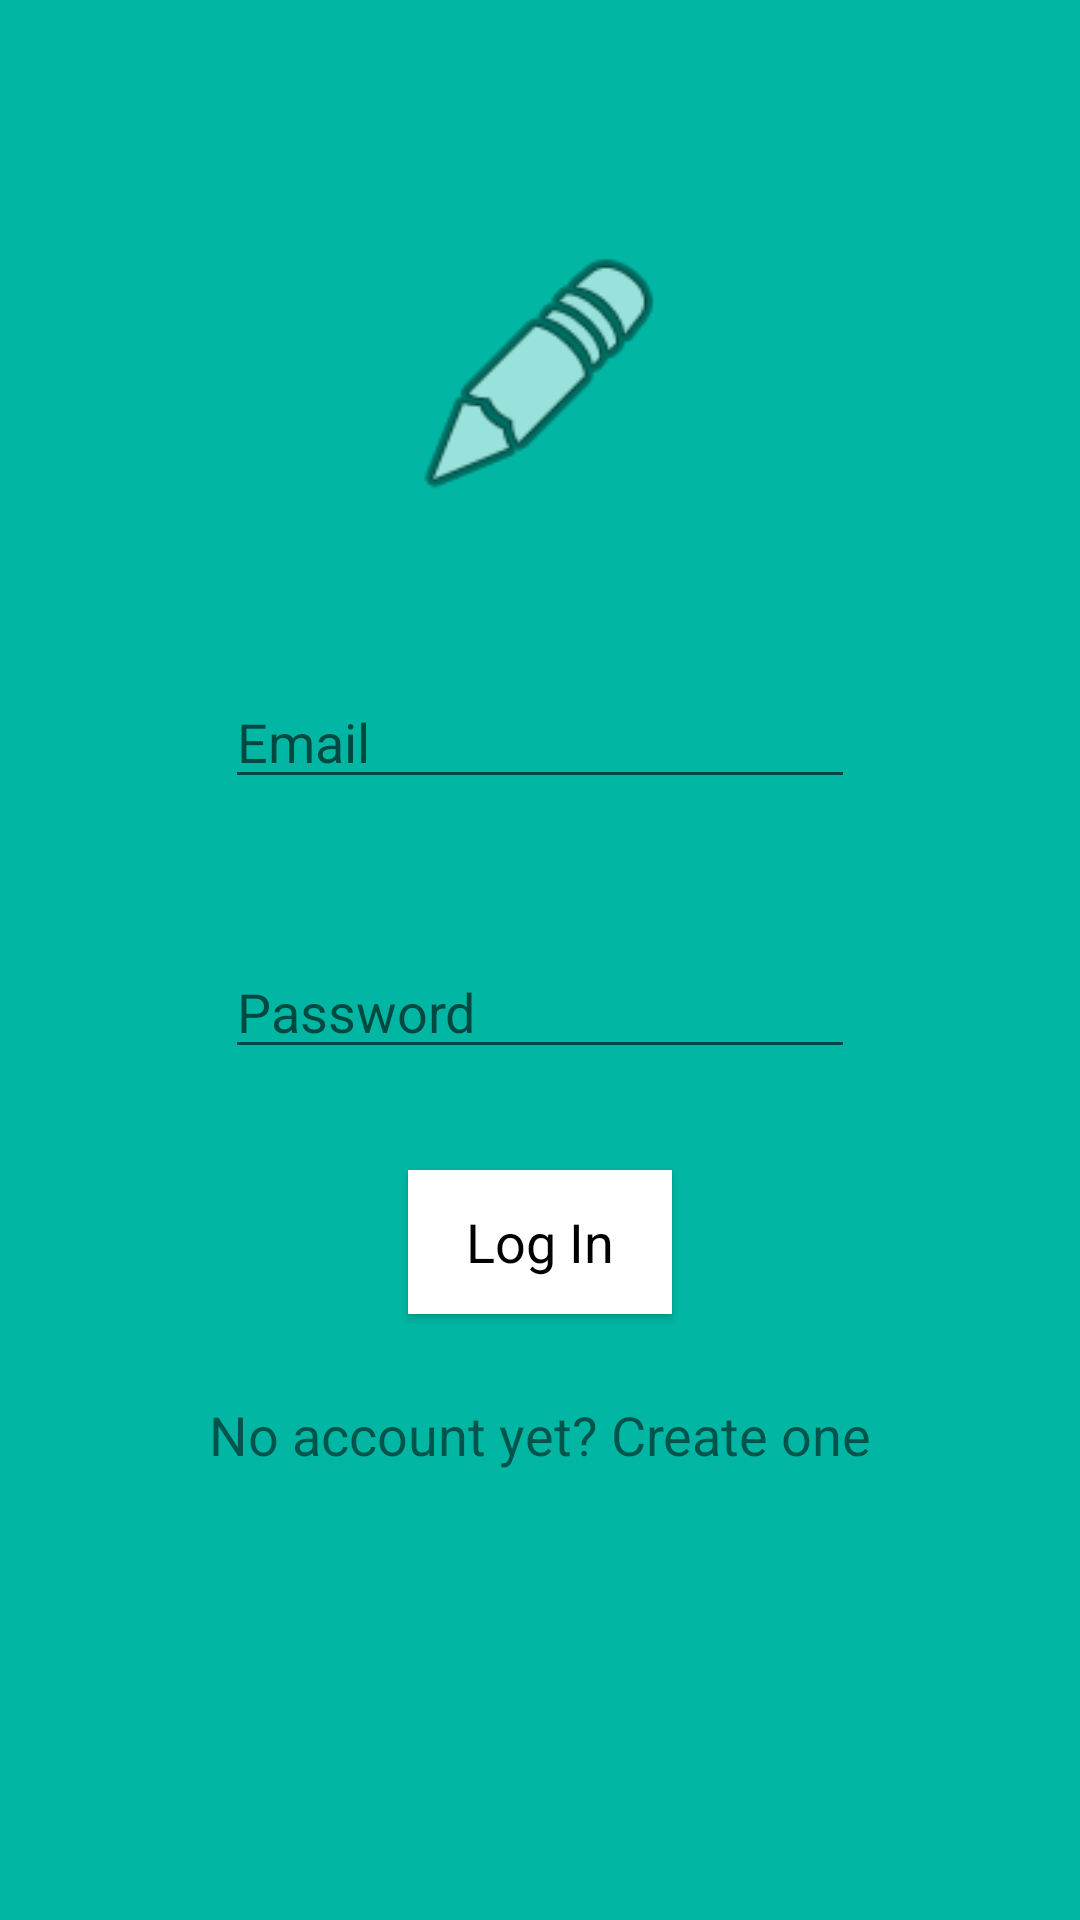

Icons on this 1080*1920 Android screen, each with the point to tap as [x,y]:
edit: [539,373]
